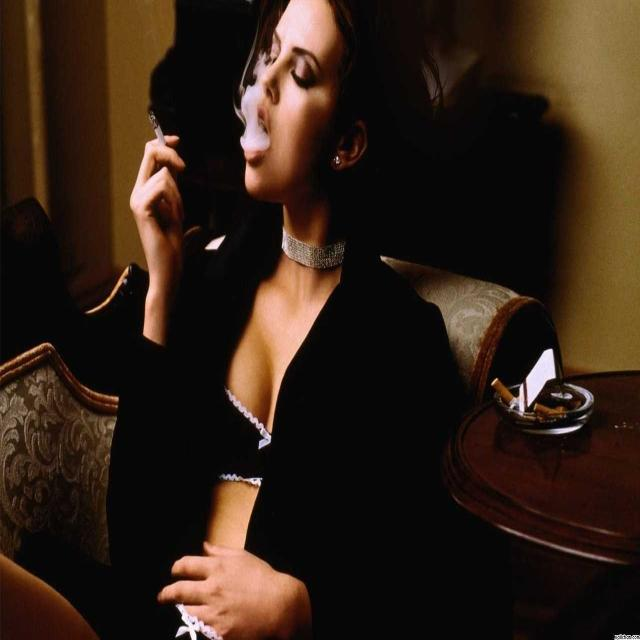Smooking: (142, 104, 174, 142)
